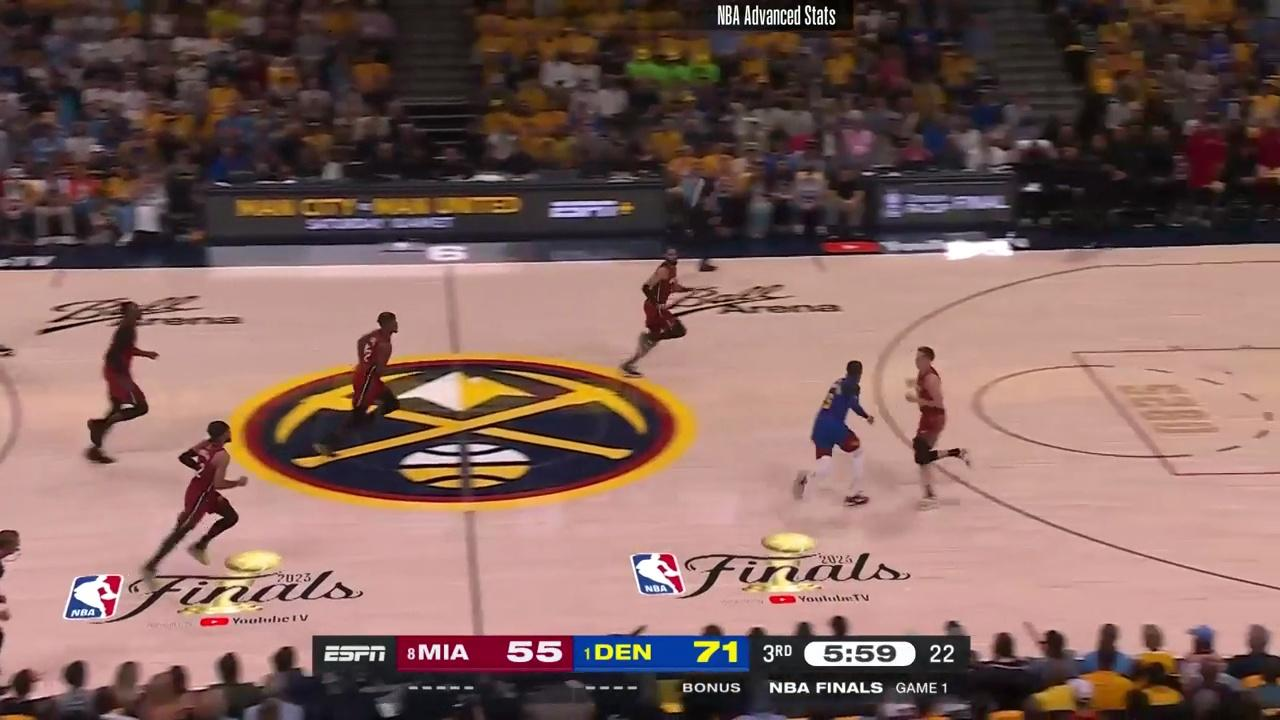Person: (136, 415, 257, 595), (795, 355, 893, 505), (311, 305, 402, 461), (88, 295, 172, 463), (900, 346, 976, 516), (617, 249, 701, 377)
Referee: (652, 144, 729, 286)
